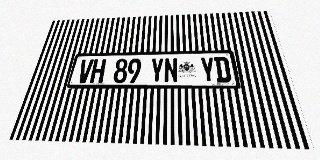8: (113, 59, 129, 83)
9: (126, 58, 142, 83)
D: (214, 57, 232, 83)
H: (89, 59, 106, 83)
N: (164, 58, 178, 83)
V: (76, 59, 94, 83)
Y: (200, 57, 216, 83), (150, 58, 164, 83)
